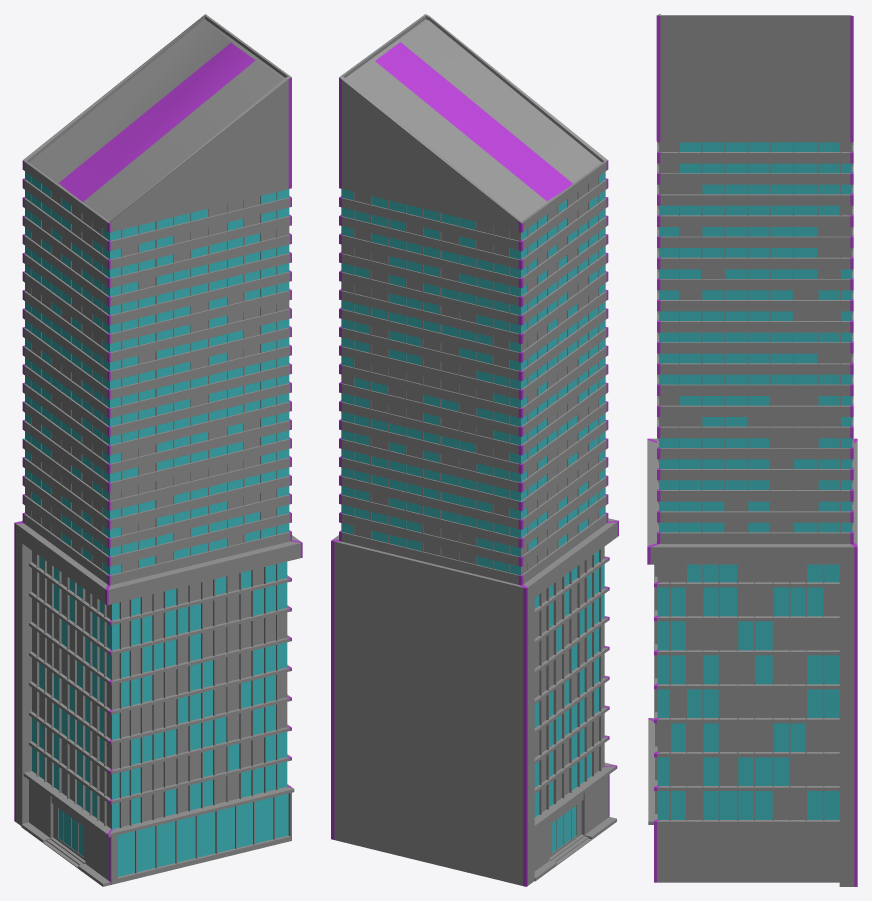
File: buildings_L_01_var1.fbx
The picture shows the model from 3 angles, left to right: view 1: azimuth 30°, elevation 25°; view 2: azimuth 150°, elevation 25°; view 3: azimuth 270°, elevation 25°; orthographic projection. The views are drawn at different scales.
Visible parts, largest first — view 1: buildings_L_01_VAR1; view 2: buildings_L_01_VAR1; view 3: buildings_L_01_VAR1.
Part boxes in pixels (<box>): buildings_L_01_VAR1: <box>14,14,302,886</box>; buildings_L_01_VAR1: <box>331,14,618,886</box>; buildings_L_01_VAR1: <box>647,14,857,886</box>.
Size of the model in its own units: 19.05 by 70.61 by 15.52.
